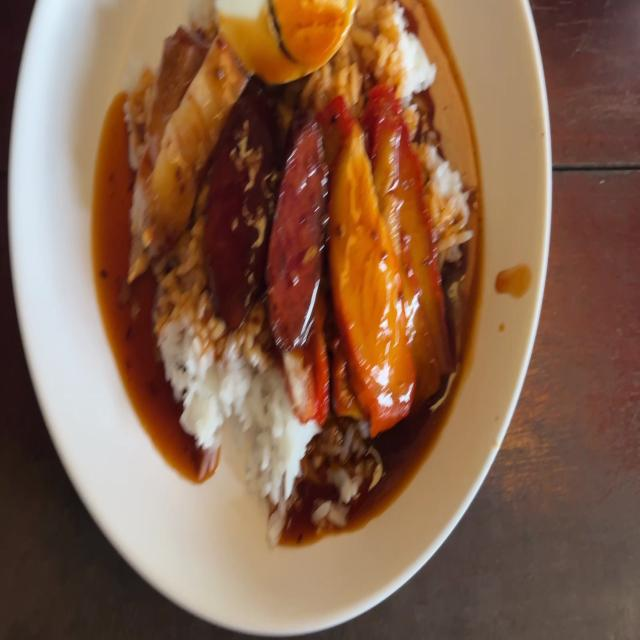01boiled_egg: (215, 2, 354, 72)
01chainese_sausage: (208, 109, 325, 313), (208, 116, 275, 312), (270, 128, 328, 342)
01crispy_pork: (128, 28, 237, 256), (146, 46, 241, 241)
01red_pork: (327, 107, 431, 385), (378, 92, 449, 375), (328, 130, 396, 398)
01red_pork_and_crispy_pork: (128, 0, 473, 514)
01rice: (205, 324, 293, 490), (155, 246, 209, 455)
